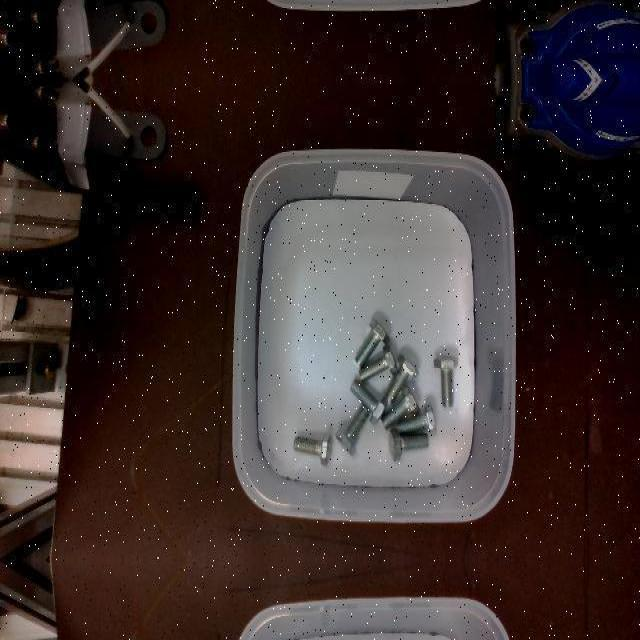screw: (355, 317, 390, 367), (349, 378, 387, 424), (381, 385, 420, 429), (335, 405, 369, 455), (385, 354, 419, 404), (359, 343, 398, 381), (388, 427, 429, 461), (396, 402, 436, 436), (293, 433, 332, 467), (433, 354, 458, 406)
